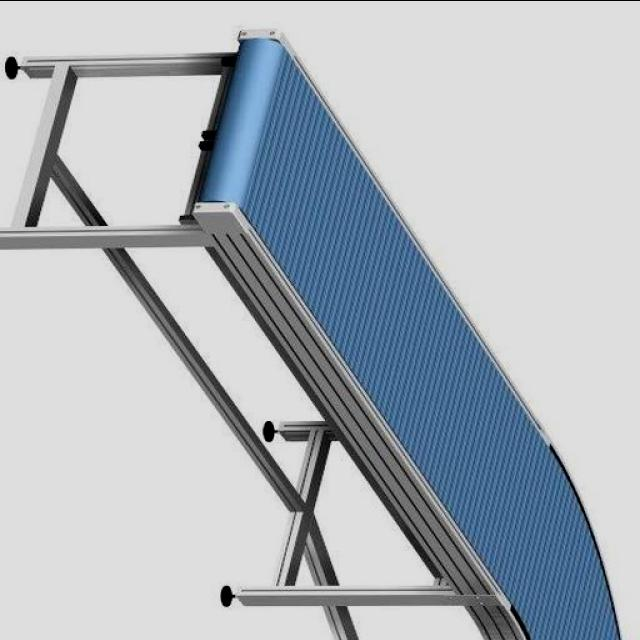conveyor: (194, 32, 621, 640)
